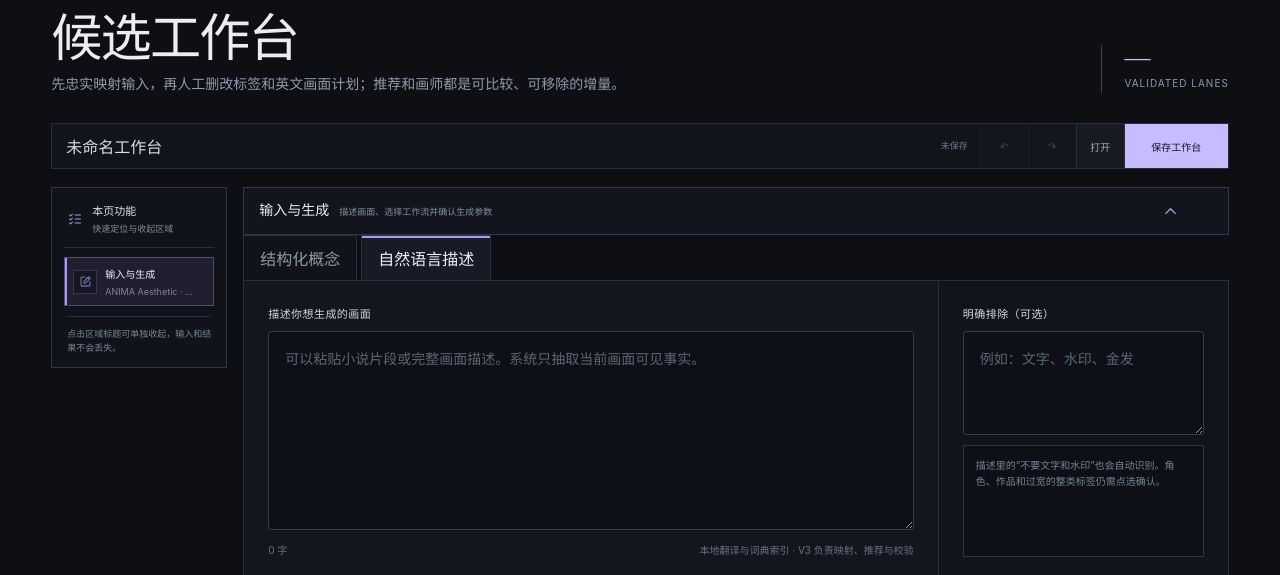
Test: keeps ownership and wearing relations separate until the user confirms each step
The image size is (1280, 575).
Type "博丽灵梦穿女仆装" into the text box labelled "描述你想生成的画面". click: [591, 430]
box: [268,331,914,530]
(page scrolled)
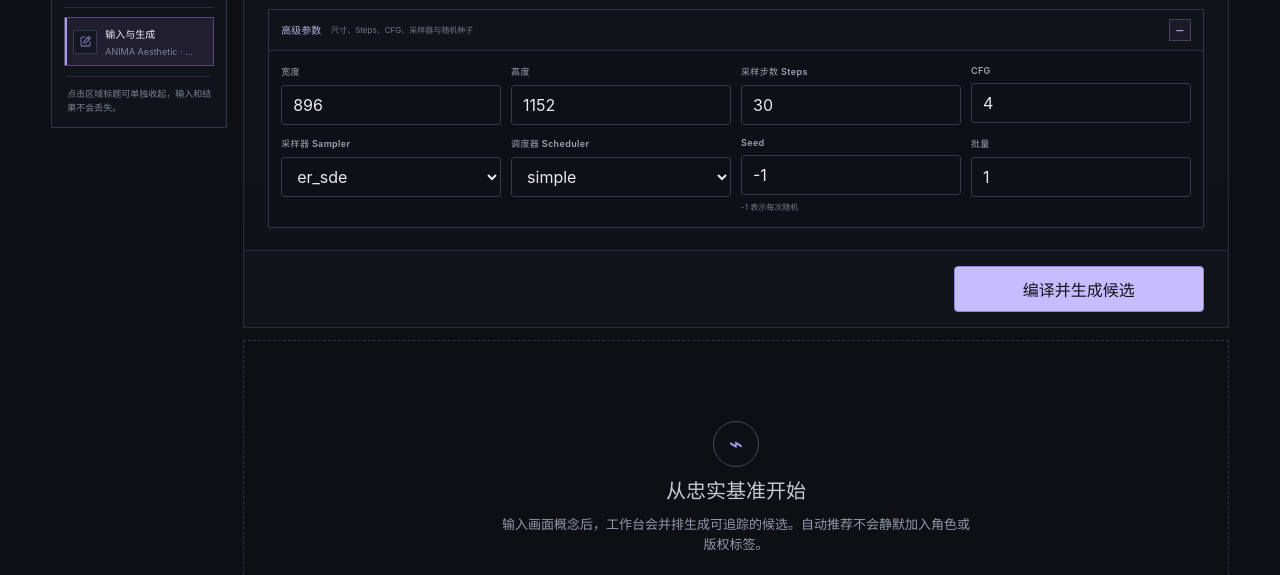
Click the button "编译并生成候选". click: [1079, 289]
box: [954,266,1204,312]
(page scrolled)
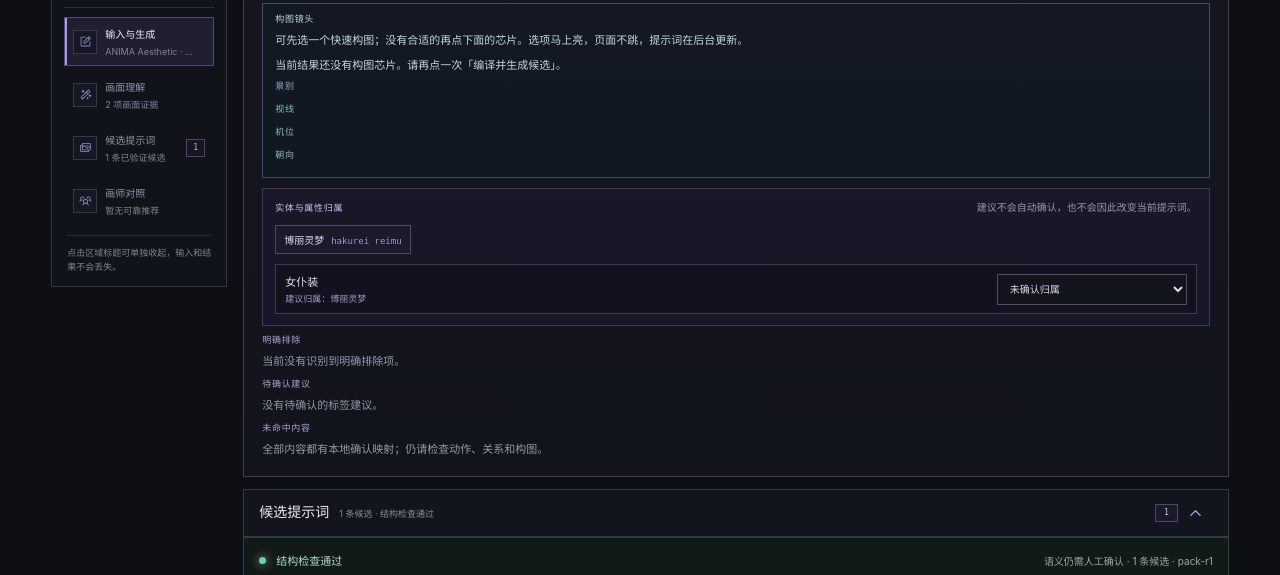
Check: the text "实体与属性归属" is shown, box [275,204,343,213]
Check: the text "建议归属：博丽灵梦" is shown, box [285,293,366,304]
Check: the dropdown named "女仆装 的归属" shows "未确认归属"
Select "博丽灵梦" in the dropdown named "女仆装 的归属". click: [1092, 289]
box: [997,274,1187,305]
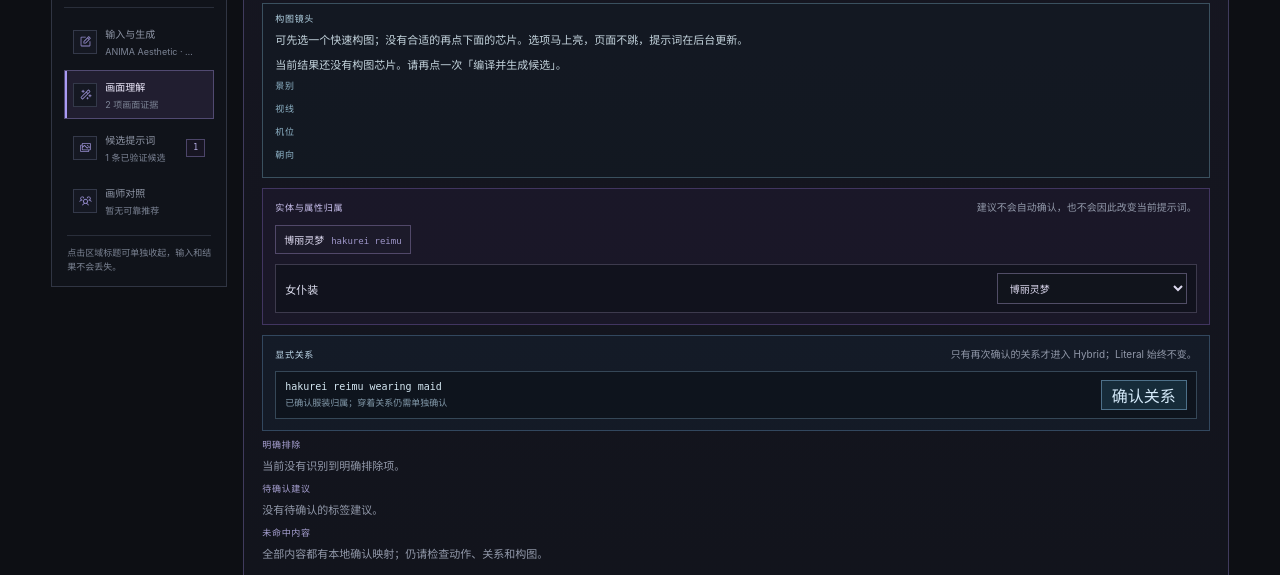
Check: the text "显式关系" is shown, box [275,351,314,360]
Check: the text "hakurei reimu wearing maid" is shown, box [285,381,442,392]
Click the button "确认关系". click: [1144, 395]
box: [1101,380,1187,410]
(page scrolled)
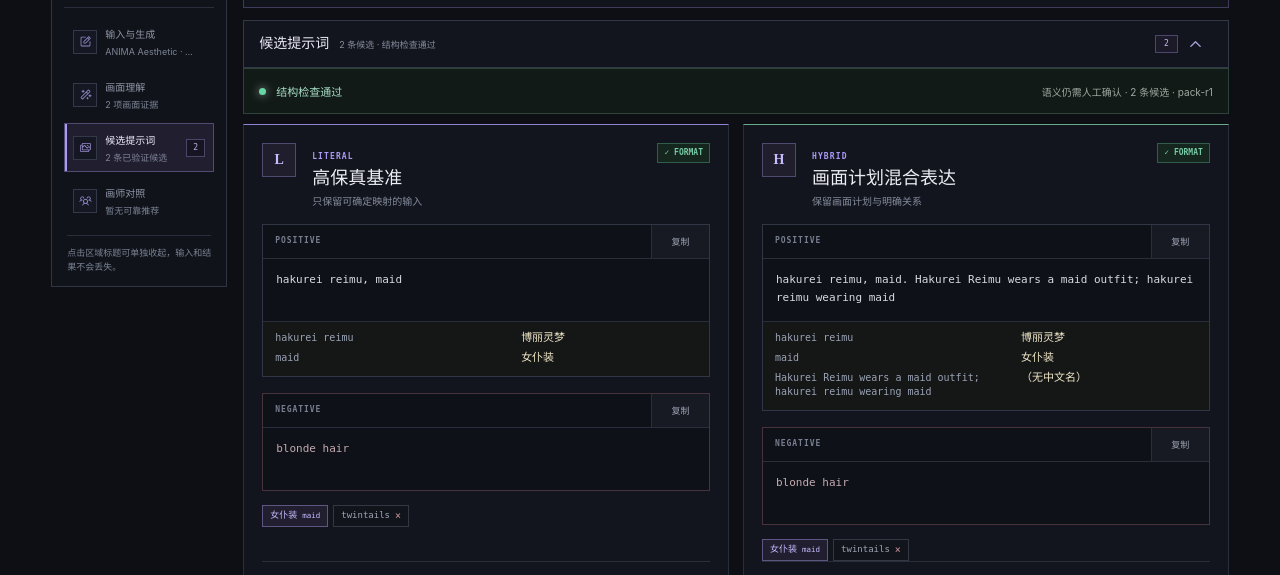
Check: the text "hakurei reimu, maid. Hakurei Reimu wears a maid outfit; hakurei reimu wearing maid" is shown, box [776,273,1200,304]
